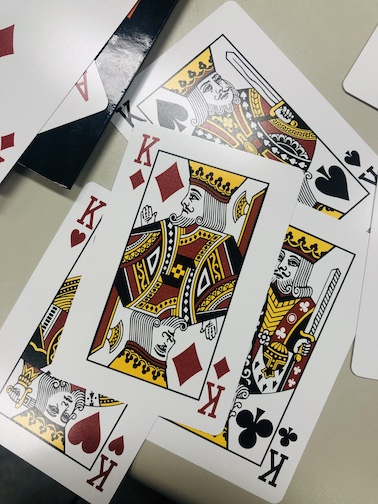ace: (26, 43, 114, 150)
king: (111, 1, 378, 237), (67, 123, 267, 428), (163, 201, 362, 504), (5, 171, 116, 340)
